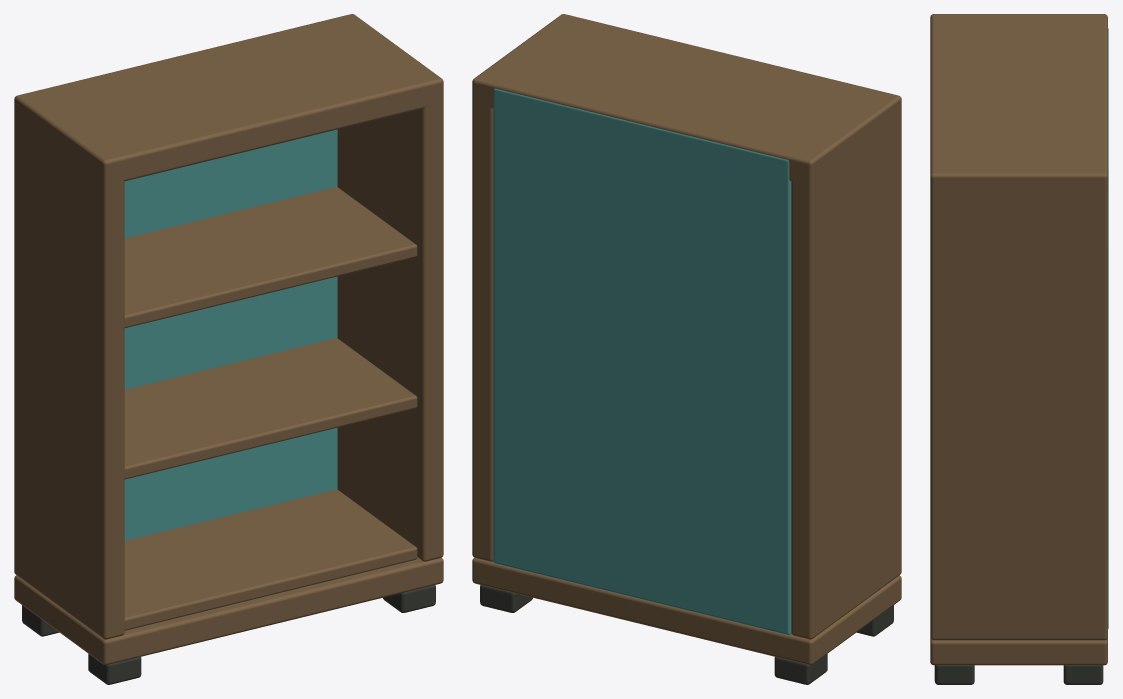
Rendered from water-clock-garden-and-hydraulic-puzzles-timekeepers-s-37dd4ebe__31970.glb.
The picture shows the model from 3 angles, left to right: view 1: azimuth 30°, elevation 25°; view 2: azimuth 150°, elevation 25°; view 3: azimuth 270°, elevation 25°; orthographic projection. The views are drawn at different scales.
Visible parts, largest first — view 1: timekeepers-service-cabinet; view 2: timekeepers-service-cabinet; view 3: timekeepers-service-cabinet.
Boxes of the visible parts, bbox=[...] form: timekeepers-service-cabinet: bbox=[14, 14, 443, 684]; timekeepers-service-cabinet: bbox=[472, 14, 901, 684]; timekeepers-service-cabinet: bbox=[930, 14, 1108, 684].
Bounding box in the file's own units: 1.25 × 1.85 × 0.5825.
